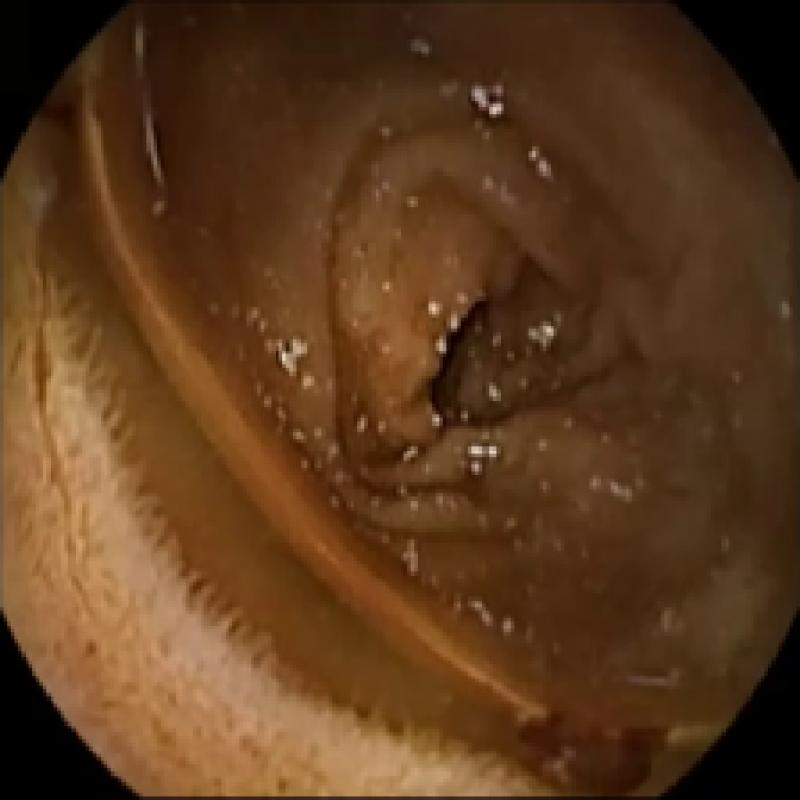bleeding: (504, 707, 689, 800)
